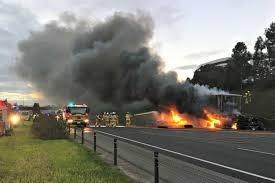fire: (159, 105, 231, 131), (198, 107, 237, 129)
